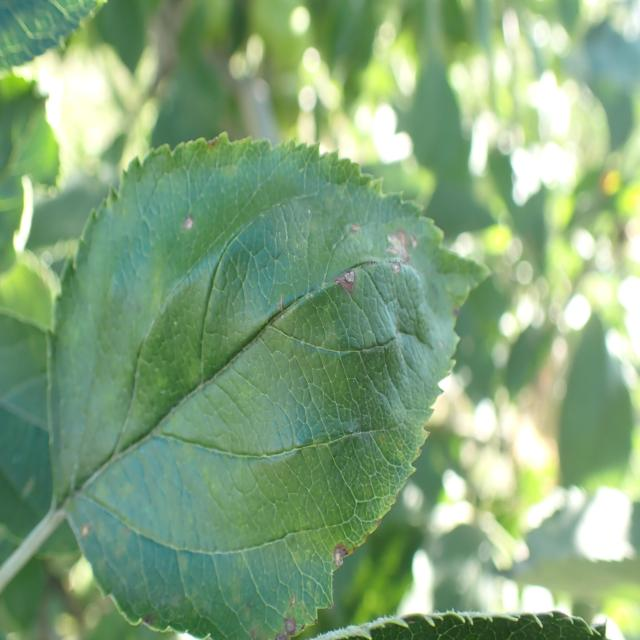frog-eye-leaf-spot: (51, 131, 495, 639)
